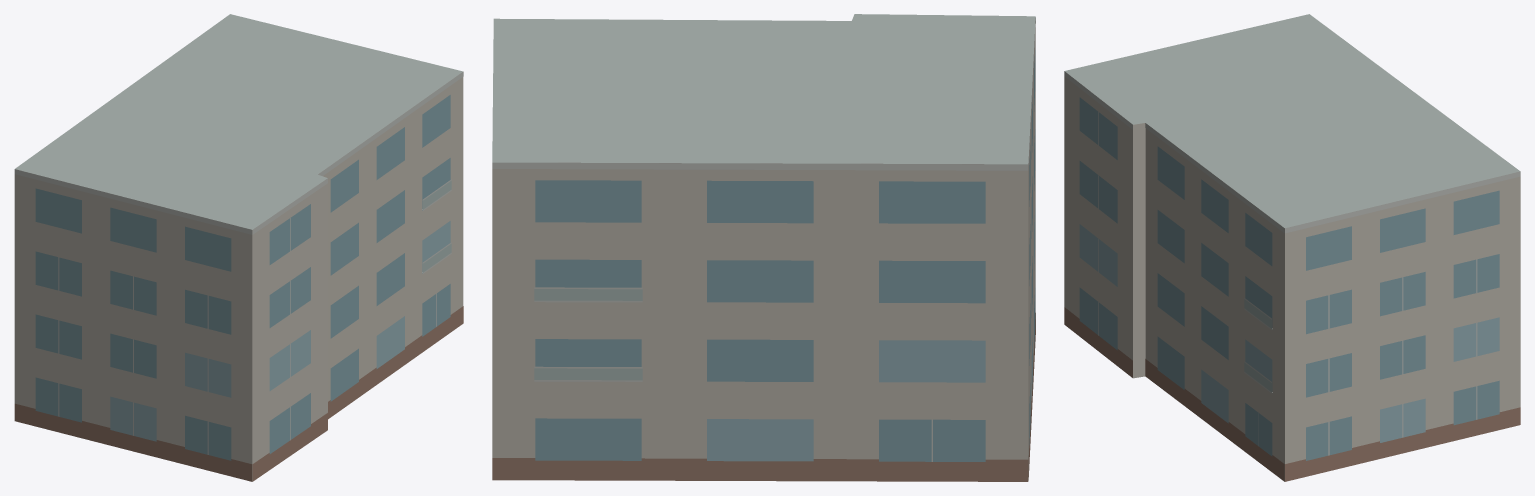
Rendered from survey-upis-32597974.glb.
The picture shows the model from 3 angles, left to right: view 1: azimuth 30°, elevation 25°; view 2: azimuth 150°, elevation 25°; view 3: azimuth 270°, elevation 25°; orthographic projection. The views are drawn at different scales.
Parts seen in each view (by area): view 1: survey-upis-32597974.tmp; view 2: survey-upis-32597974.tmp; view 3: survey-upis-32597974.tmp.
Boxes of the visible parts, x1,y1,x2,y2 form: survey-upis-32597974.tmp: [14, 14, 463, 481]; survey-upis-32597974.tmp: [492, 14, 1035, 481]; survey-upis-32597974.tmp: [1064, 14, 1520, 481].
Size of the model in its own units: 21.76 by 12 by 19.58.
